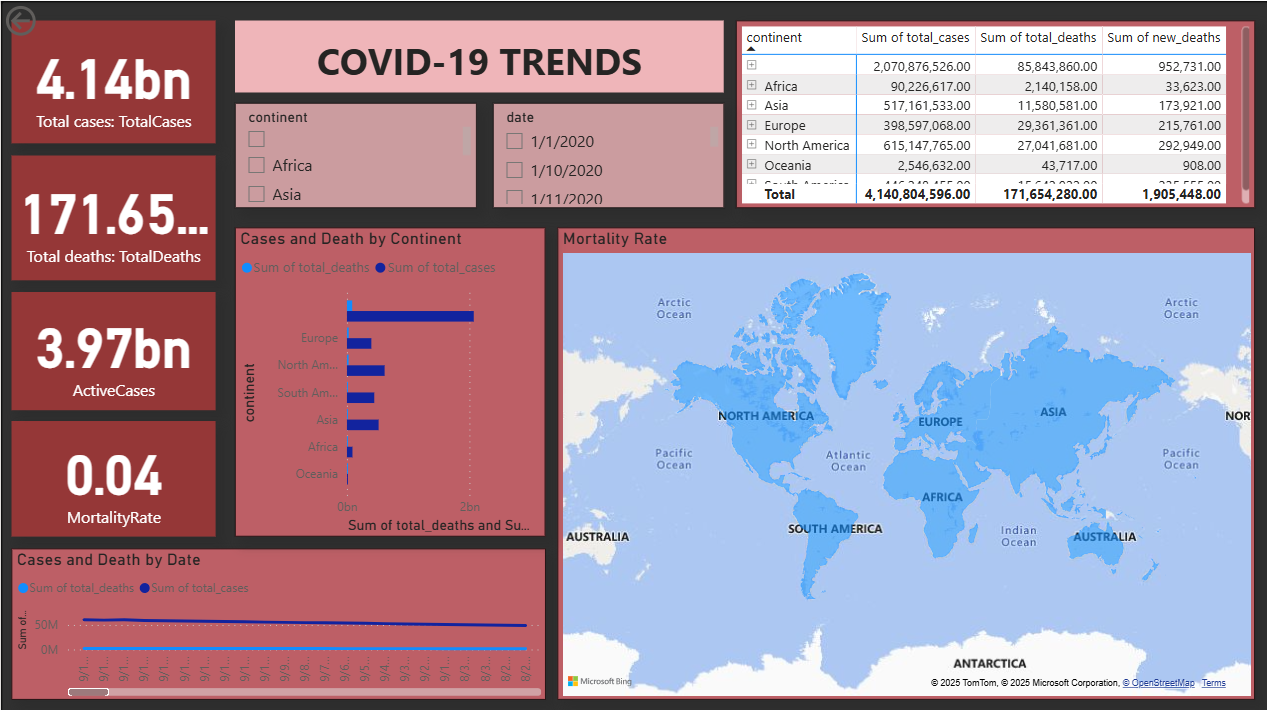

What the dashboard file says about the page in this screenshot:
{"tool":"powerbi","page":{"name":"Page 1","canvas":[1280,720],"ordinal":0},"visuals":[{"type":"card","fields":{"Values":["CovidData.Total cases: TotalCases"]},"box":[10.6,19.7,205.9,124.2],"z":0},{"type":"card","fields":{"Values":["CovidData.Total deaths: TotalDeaths"]},"box":[10.6,156,205.9,125.7],"z":1},{"type":"card","fields":{"Values":["CovidData.ActiveCases"]},"box":[10.6,293.8,205.9,119.6],"z":2},{"type":"card","fields":{"Values":["CovidData.MortalityRate"]},"box":[10.6,424,205.9,116.6],"z":3},{"type":"lineChart","title":"Cases and Death by Date","fields":{"Y":["Sum(CovidData.total_deaths)","Sum(CovidData.total_cases)"],"Category":["CovidData.date"]},"box":[10.6,552.7,539.1,152.9],"z":4},{"type":"filledMap","title":"Mortality Rate ","fields":{"Category":["CovidData.continent"]},"box":[561.8,228.6,704.1,477],"z":5},{"type":"clusteredBarChart","title":"Cases and Death by Continent","fields":{"Category":["CovidData.continent"],"Y":["Sum(CovidData.total_deaths)","Sum(CovidData.total_cases)"]},"box":[236.2,228.6,313.4,311.9],"z":6},{"type":"slicer","fields":{"Values":["CovidData.continent"]},"box":[236.2,103,243.8,106],"z":7},{"type":"pivotTable","fields":{"Rows":["CovidData.continent","CovidData.date"],"Values":["Sum(CovidData.total_cases)","Sum(CovidData.total_deaths)","Sum(CovidData.new_deaths)"]},"box":[742,19.7,523.9,189.3],"z":8},{"type":"actionButton","box":[0,0,100,40],"z":9},{"type":"slicer","fields":{"Values":["CovidData.date"]},"box":[496.7,103,233.2,106],"z":10},{"type":"textbox","box":[236.2,19.7,493.6,72.7],"z":11}]}

Visuals, with their boxes in screenshot pixels (x1, y1, x2, y2), scaled from the page's 1280x720 canvas onto the 1267x710 screenshot:
card - CovidData.Total cases: TotalCases: pyautogui.locateOnScreen(10, 19, 214, 142)
card - CovidData.Total deaths: TotalDeaths: pyautogui.locateOnScreen(10, 154, 214, 278)
card - CovidData.ActiveCases: pyautogui.locateOnScreen(10, 290, 214, 408)
card - CovidData.MortalityRate: pyautogui.locateOnScreen(10, 418, 214, 533)
"Cases and Death by Date" lineChart: pyautogui.locateOnScreen(10, 545, 544, 696)
"Mortality Rate " filledMap: pyautogui.locateOnScreen(556, 225, 1253, 696)
"Cases and Death by Continent" clusteredBarChart: pyautogui.locateOnScreen(234, 225, 544, 533)
slicer - CovidData.continent: pyautogui.locateOnScreen(234, 102, 475, 206)
pivotTable - CovidData.continent x CovidData.date: pyautogui.locateOnScreen(734, 19, 1253, 206)
actionButton: pyautogui.locateOnScreen(0, 0, 99, 39)
slicer - CovidData.date: pyautogui.locateOnScreen(492, 102, 722, 206)
textbox: pyautogui.locateOnScreen(234, 19, 722, 91)
